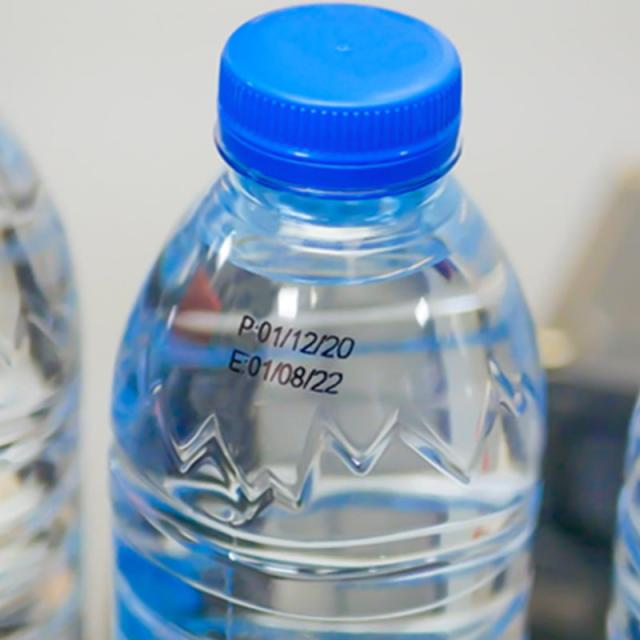plastic: (100, 1, 554, 640)
